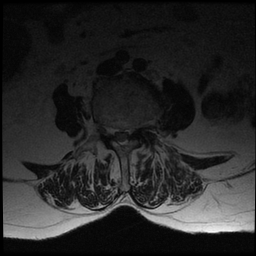CCS_normal: (119, 122, 126, 152)
LFS_stenosis: (133, 117, 140, 138)
LLS_stenosis: (126, 121, 132, 145)
RFS_normal: (105, 118, 112, 143)
RLS_normal: (113, 121, 119, 145)
